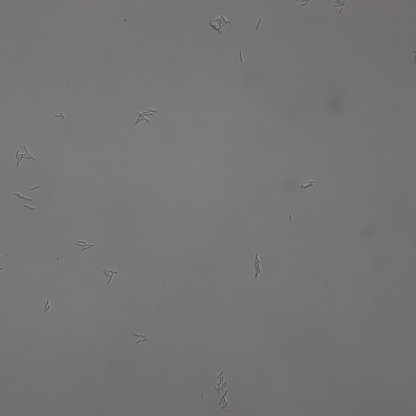R(colony): (14, 145, 37, 165), (134, 108, 157, 125), (208, 16, 228, 34), (215, 370, 227, 393), (219, 391, 230, 413), (103, 268, 118, 284), (253, 253, 262, 279), (75, 241, 94, 251), (133, 333, 149, 344), (298, 182, 316, 190), (334, 1, 345, 13), (42, 300, 51, 312), (53, 113, 65, 118)
